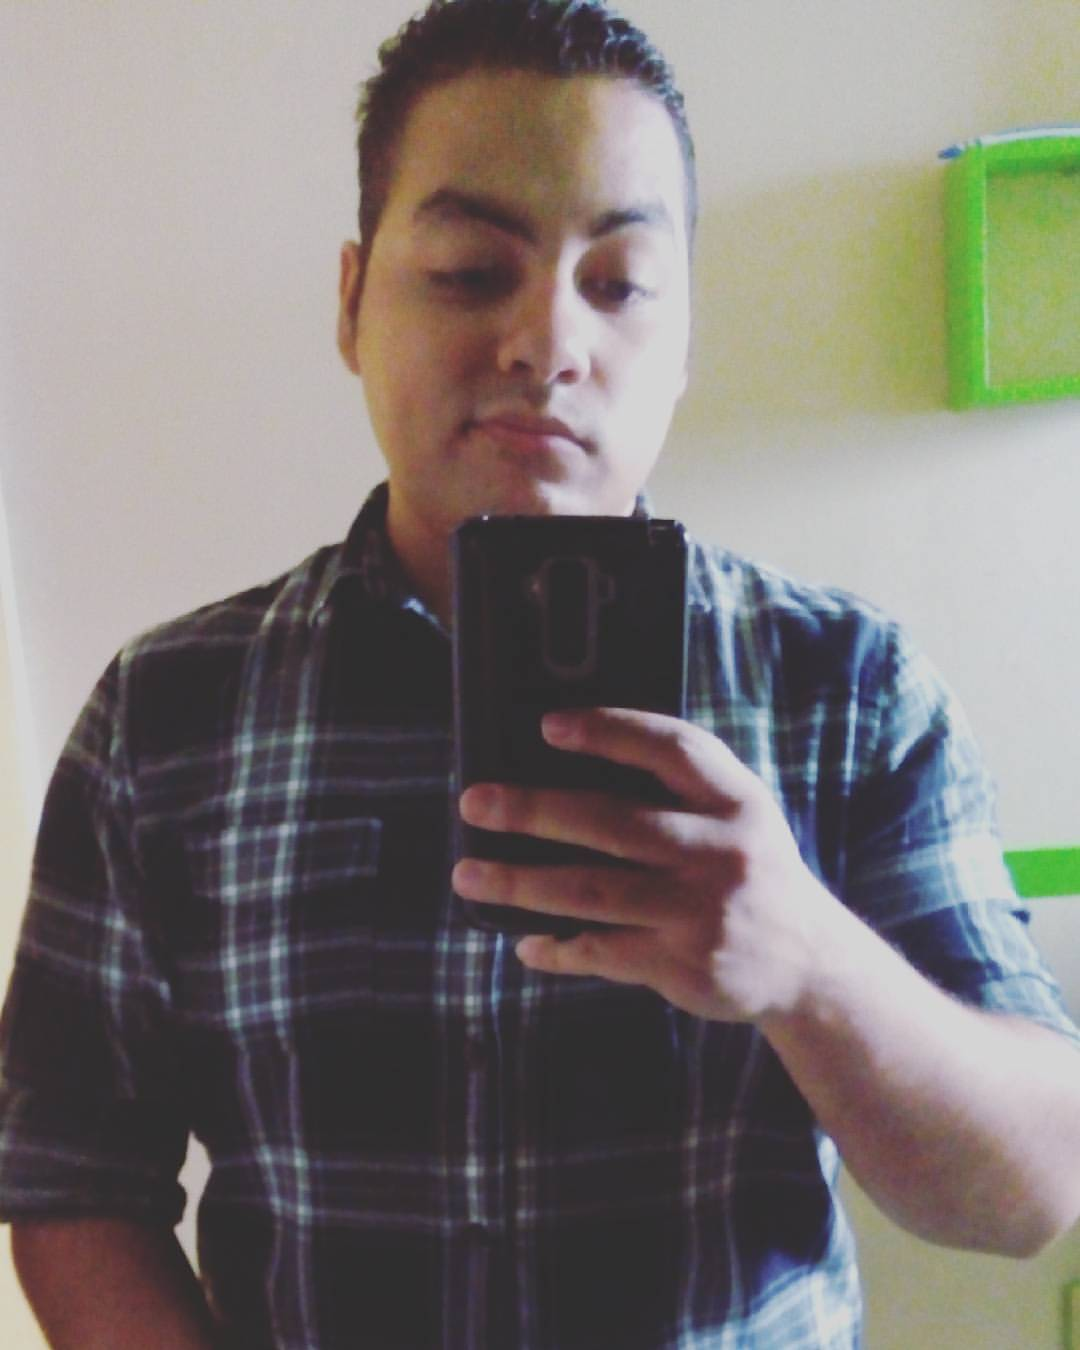Yoshi: (249, 21, 822, 586)
